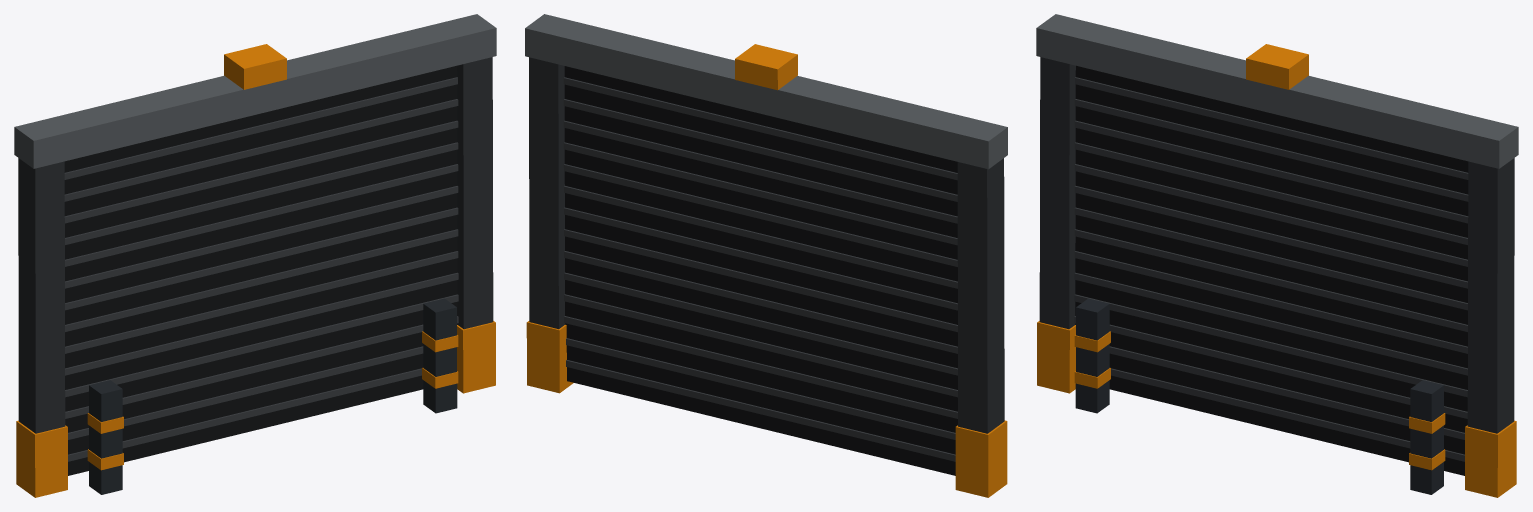
Rendered from warehouse-barrier.obj.
3 renders of one model, left to right at view 1: azimuth 30°, elevation 25°; view 2: azimuth 150°, elevation 25°; view 3: azimuth 330°, elevation 25°, orthographic.
Parts seen in each view (by area): view 1: Pagar_Rak; view 2: Pagar_Rak; view 3: Pagar_Rak.
Boxes of the visible parts, x1,y1,x2,y2 form: Pagar_Rak: [14, 14, 496, 497]; Pagar_Rak: [525, 14, 1007, 497]; Pagar_Rak: [1036, 14, 1518, 497].
Bounding box in the file's own units: 3.46 × 2.7 × 0.4448.
